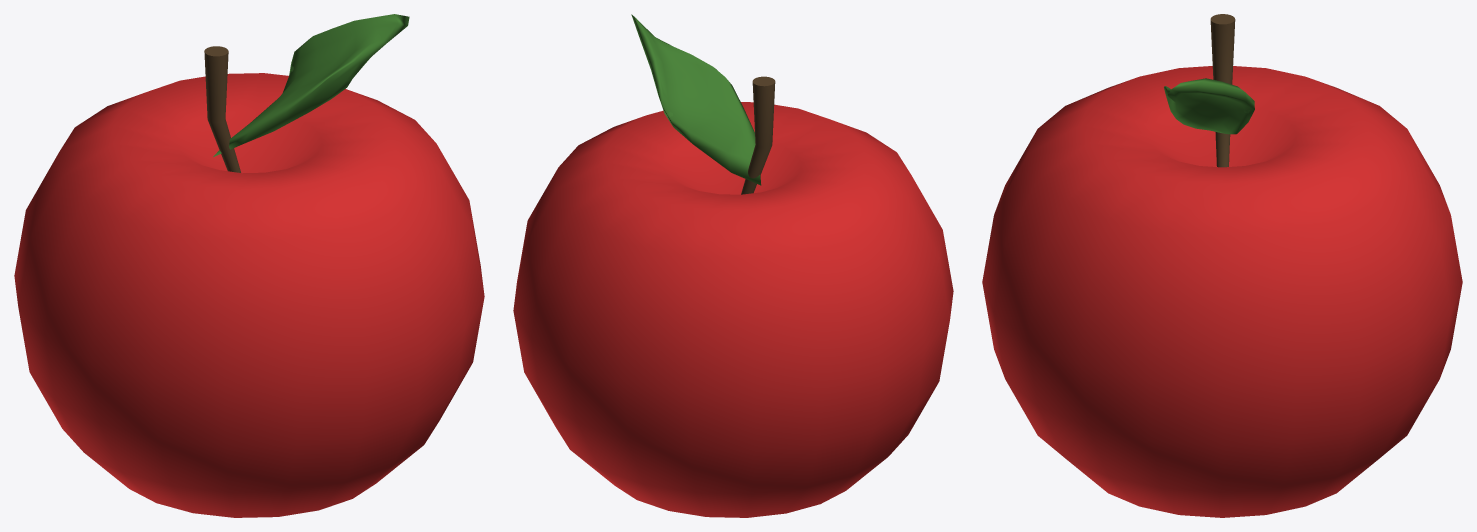
Rendered from apple.glb.
The picture shows the model from 3 angles, left to right: view 1: azimuth 30°, elevation 25°; view 2: azimuth 150°, elevation 25°; view 3: azimuth 270°, elevation 25°; orthographic projection. The views are drawn at different scales.
Parts seen in each view (by area): view 1: pSphere1, pCube1, pCylinder1; view 2: pSphere1, pCube1, pCylinder1; view 3: pSphere1, pCube1, pCylinder1.
Boxes of the visible parts, x1,y1,x2,y2 form: pSphere1: (14,73,484,517); pCube1: (213,14,409,156); pCylinder1: (204,46,240,172); pSphere1: (513,102,953,517); pCube1: (631,14,761,185); pCylinder1: (741,76,775,194); pSphere1: (982,66,1462,517); pCube1: (1164,78,1254,134); pCylinder1: (1210,14,1235,167).
Size of the model in its own units: 0.2851 by 0.2918 by 0.2851.
